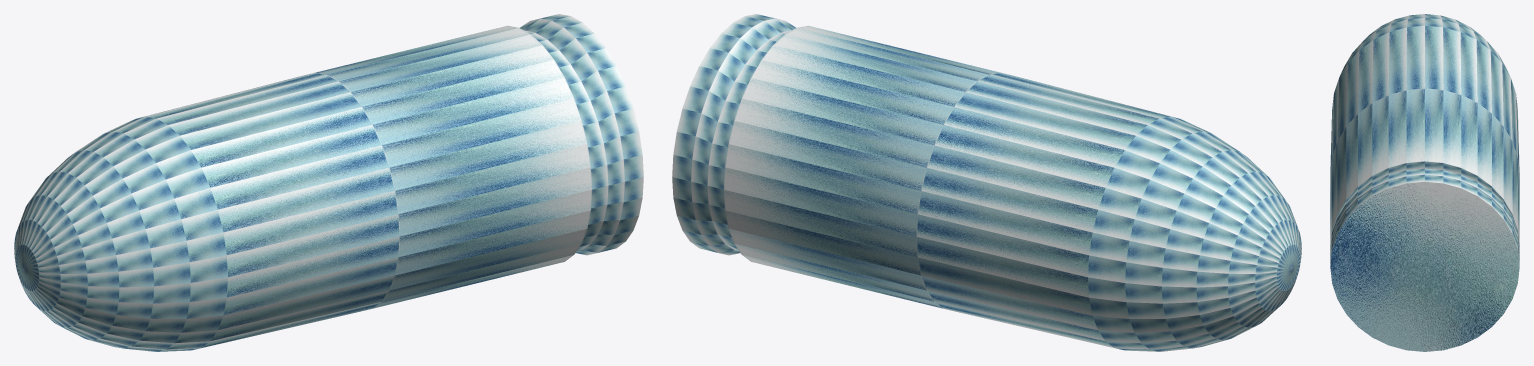
File: bullet.obj
3 views of the same model, side by side, from view 1: azimuth 30°, elevation 25°; view 2: azimuth 150°, elevation 25°; view 3: azimuth 270°, elevation 25° (orthographic). The views are drawn at different scales.
Visible parts, largest first — view 1: Sphere; view 2: Sphere; view 3: Sphere.
Boxes of the visible parts, x1=… form: Sphere: x1=14, y1=14, x2=643, y2=351; Sphere: x1=672, y1=14, x2=1301, y2=351; Sphere: x1=1330, y1=14, x2=1519, y2=351.
Bounding box in the file's own units: 0.8913 × 0.3371 × 0.3371.
